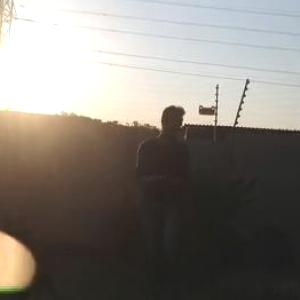follow: (130, 100, 200, 298)
